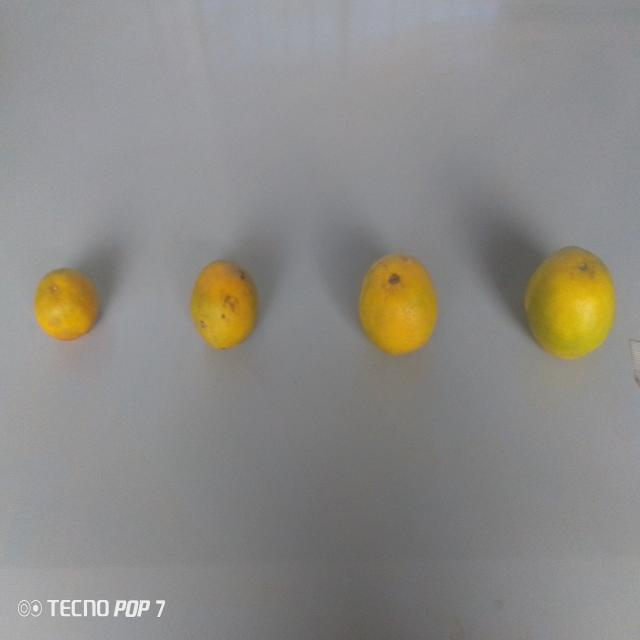Ripe orange: (522, 240, 622, 361), (355, 244, 439, 366), (188, 255, 263, 357), (33, 264, 103, 349)
